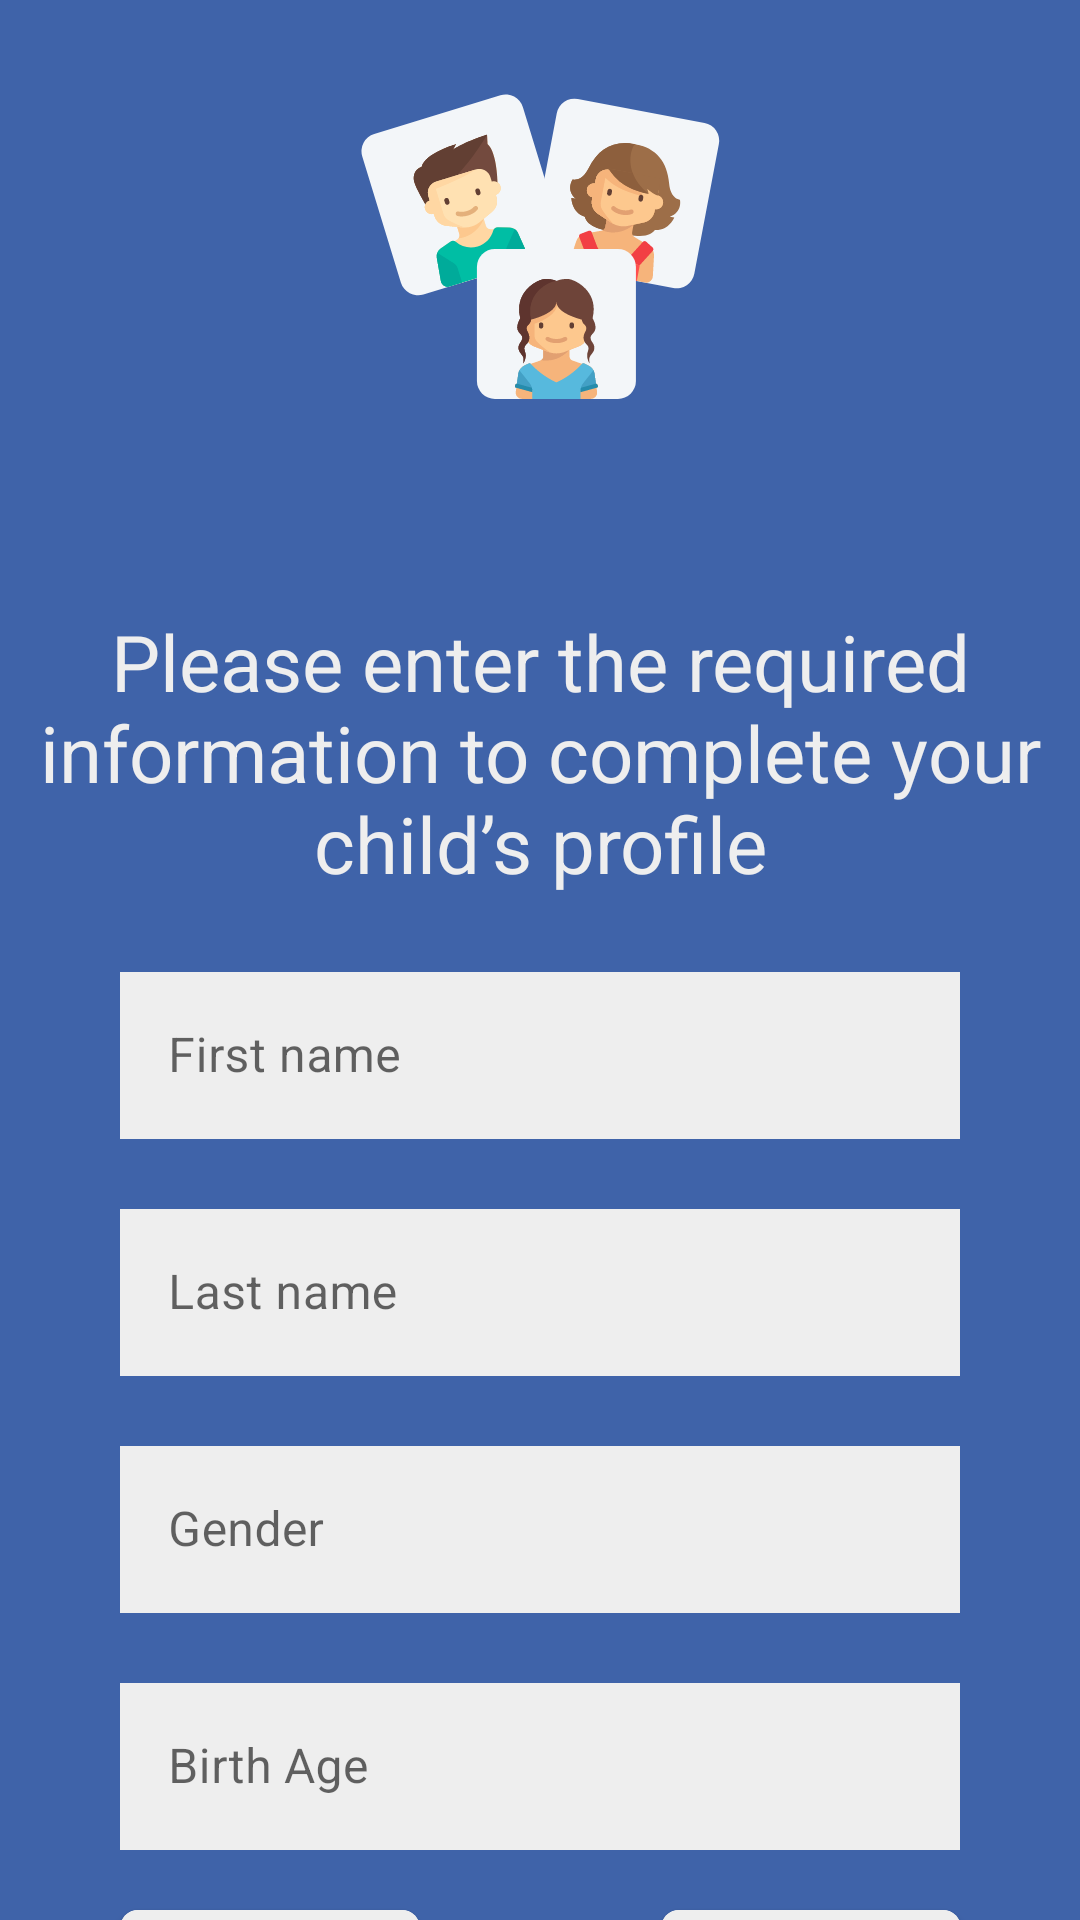

Where to tap for icons on this 1080×1920 app screen, as (x=x, y=y):
addchild: (x=540, y=246)
